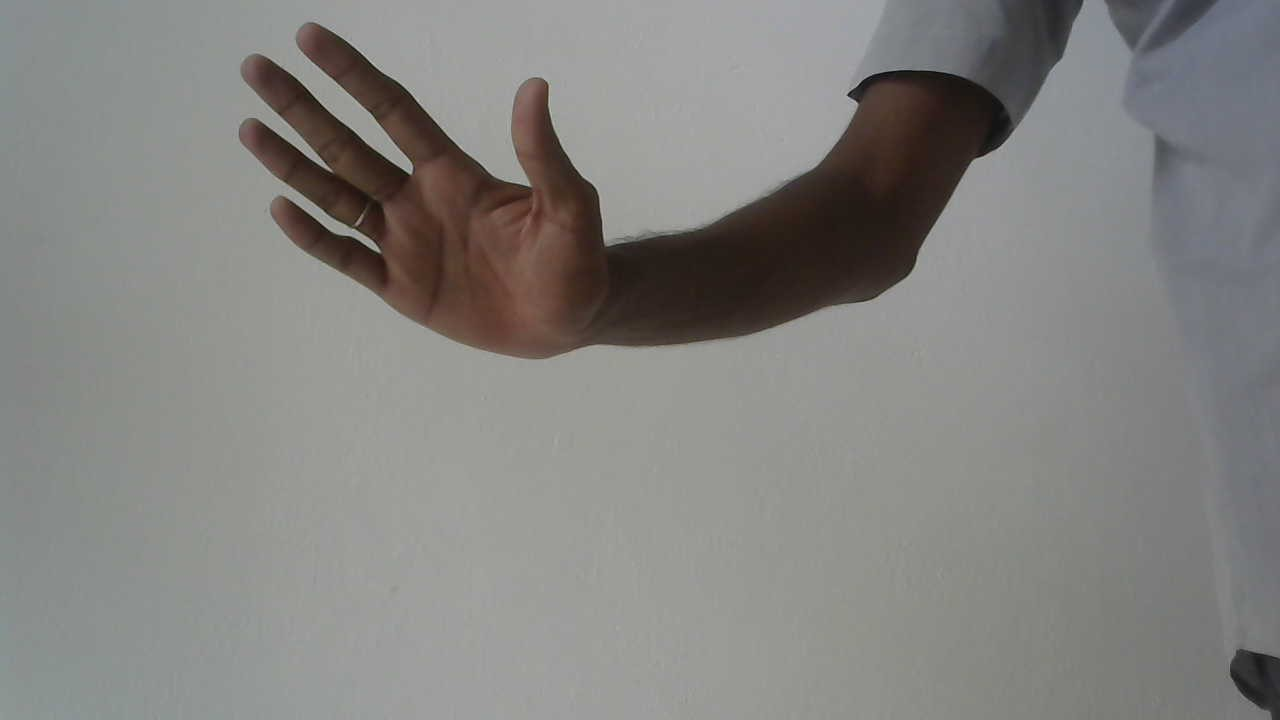hello: (221, 12, 622, 371)
